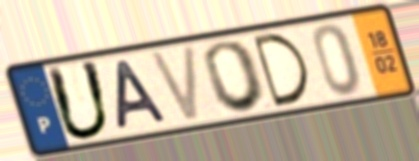0: (310, 20, 365, 99)
A: (116, 57, 172, 133)
D: (248, 30, 313, 110)
O: (200, 38, 271, 115)
U: (43, 58, 115, 143)
V: (145, 42, 203, 126)
